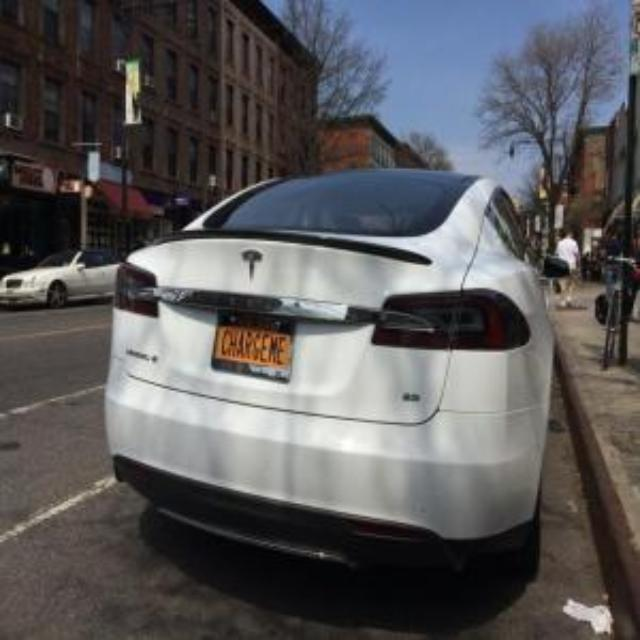License Plate: (211, 312, 295, 381)
